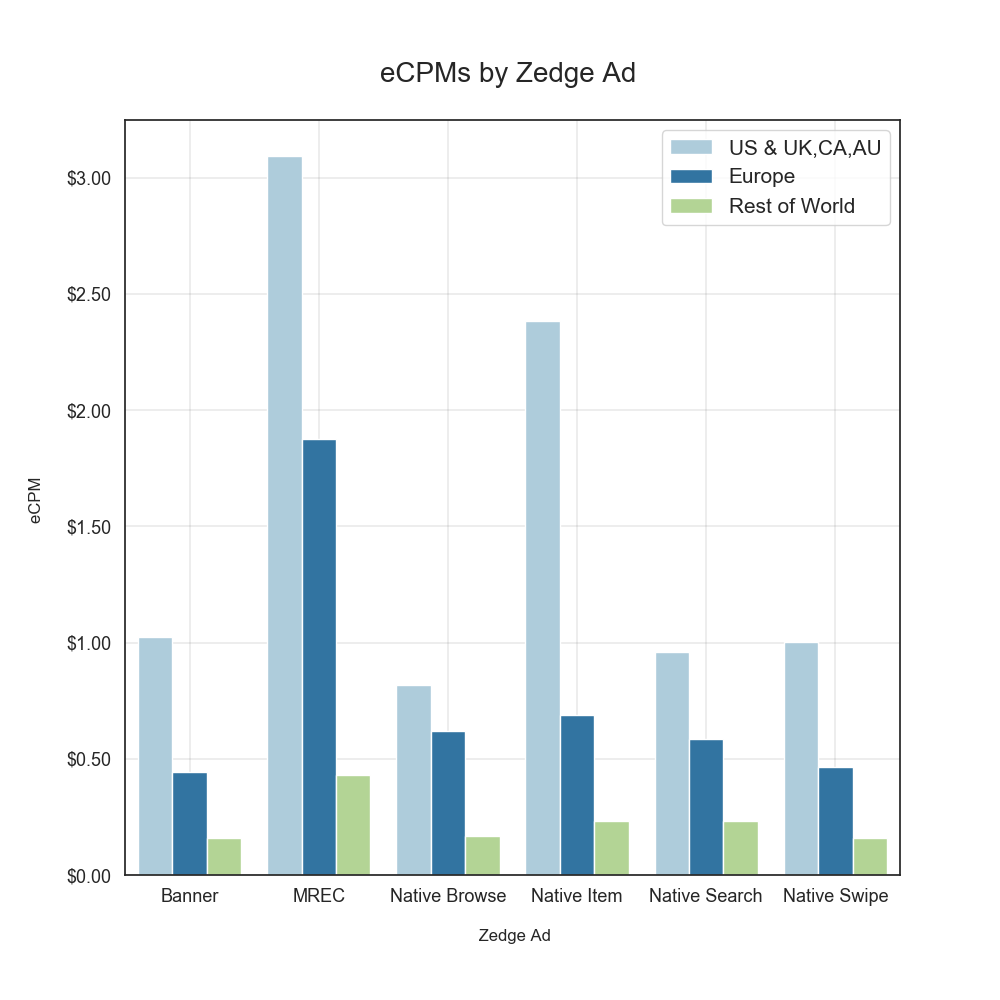

This screenshot's page, from the dashboard's own definition file:
{"tool":"tableau","page":{"name":"Dash-Banner-Native","canvas":[1000,800],"ordinal":0},"visuals":[{"type":"worksheet","title":"Banner-Native","mark":"Bar","cols":["ad_name","year"],"box":[0,0,825,800]},{"type":"legend","title":"Banner-Native","param":"[federated.0r0igg40si73g6184mxyn0eqz123].[none:connection:nk]","box":[825,0,171,800]}]}

Visuals, with their boxes on the page's 1000x800 design canvas (x1, y1, x2, y2). These are canvas units, not pixel positions in the 1000x1000 screenshot, which may show the page scaled, cropped or inside an application window:
"Banner-Native" worksheet (Bar marks): 0 0 825 800
"Banner-Native" legend: 825 0 996 800
